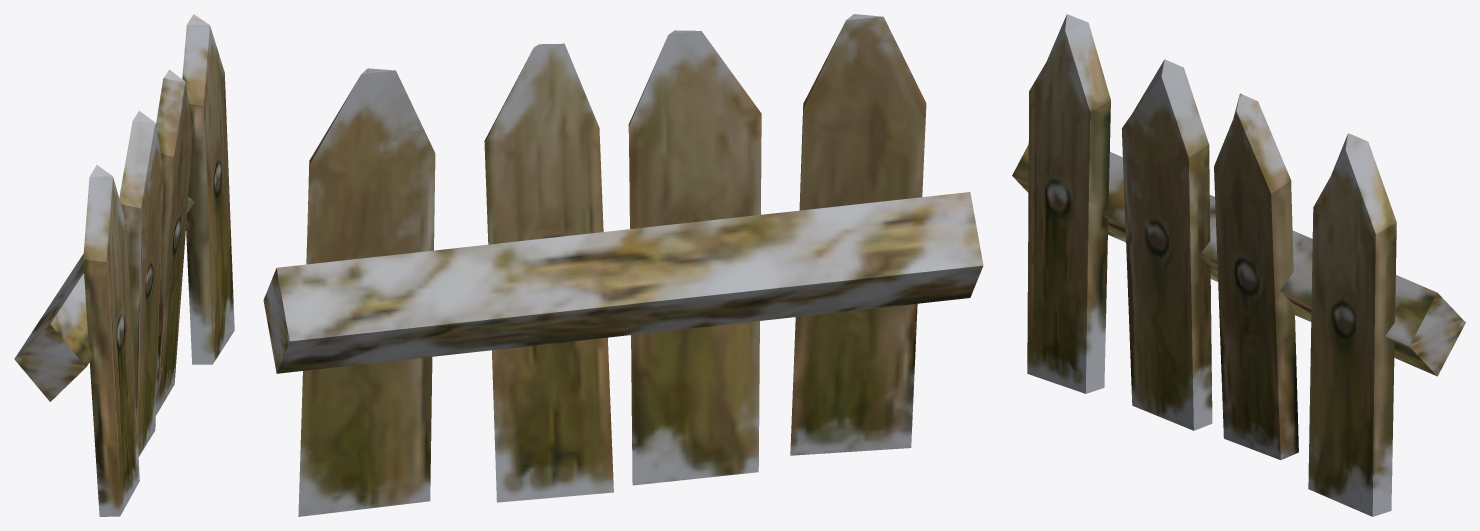
Rendered from Greenland_Fence02_snow.FBX.
3 views of the same model, side by side, from view 1: azimuth 30°, elevation 25°; view 2: azimuth 150°, elevation 25°; view 3: azimuth 270°, elevation 25° (orthographic). The views are drawn at different scales.
Parts seen in each view (by area): view 1: Greenland_Fence02_snow; view 2: Greenland_Fence02_snow; view 3: Greenland_Fence02_snow.
Part boxes in pixels (bbox=[...]): Greenland_Fence02_snow: bbox=[14, 14, 234, 516]; Greenland_Fence02_snow: bbox=[263, 14, 983, 516]; Greenland_Fence02_snow: bbox=[1012, 14, 1465, 516].
Bounding box in the file's own units: 165 × 140 × 162.
1 material, 1 textured.
